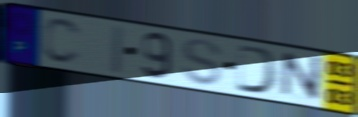9: (140, 30, 173, 80)
C: (40, 17, 84, 67)
D: (234, 42, 281, 97)
I: (109, 23, 127, 77)
N: (278, 51, 325, 103)
S: (180, 37, 224, 88)
